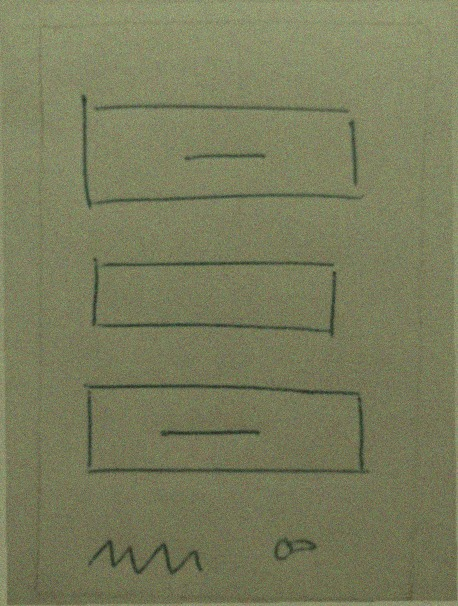button: (71, 86, 375, 215), (73, 371, 382, 488)
switch: (258, 528, 333, 567)
text: (71, 530, 223, 586)
text_input: (79, 249, 345, 348)
